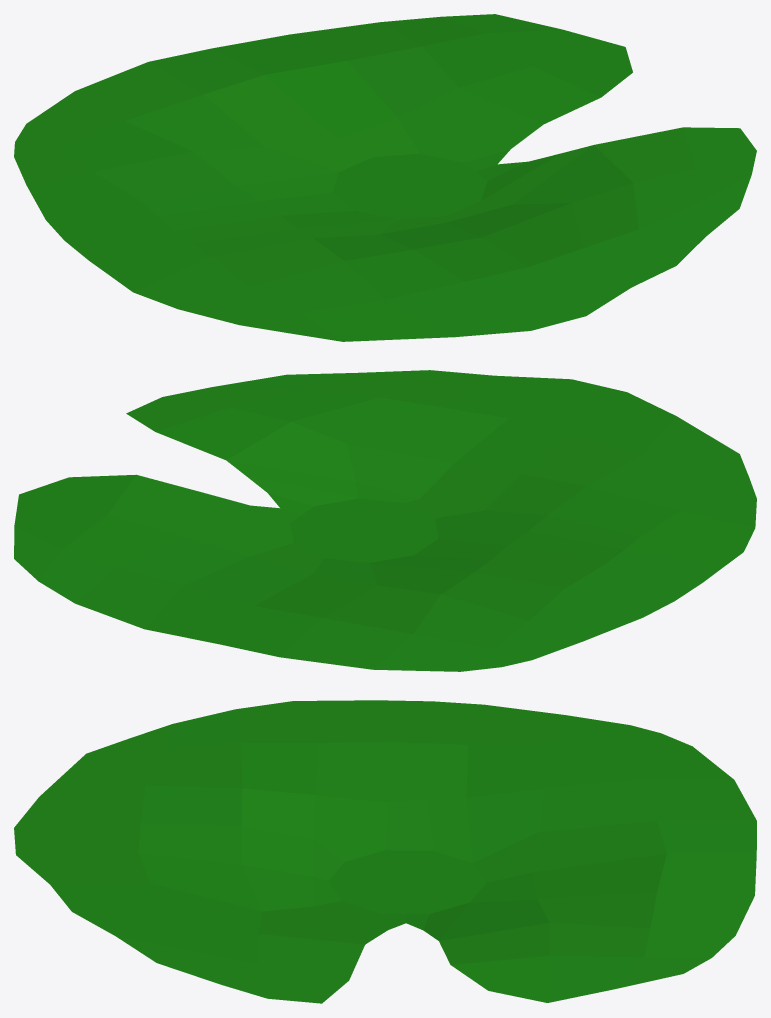
The model's file is HOJALOTOagua.fbx.
The picture shows the model from 3 angles, top to bottom: view 1: azimuth 30°, elevation 25°; view 2: azimuth 150°, elevation 25°; view 3: azimuth 270°, elevation 25°; orthographic projection. The views are drawn at different scales.
Parts seen in each view (by area): view 1: Plane.009; view 2: Plane.009; view 3: Plane.009.
Part boxes in pixels (x1,y1,x2,y2): Plane.009: [14, 14, 756, 341]; Plane.009: [14, 370, 756, 671]; Plane.009: [14, 700, 756, 1003].
Bounding box in the file's own units: 249 × 8.27 × 257.
